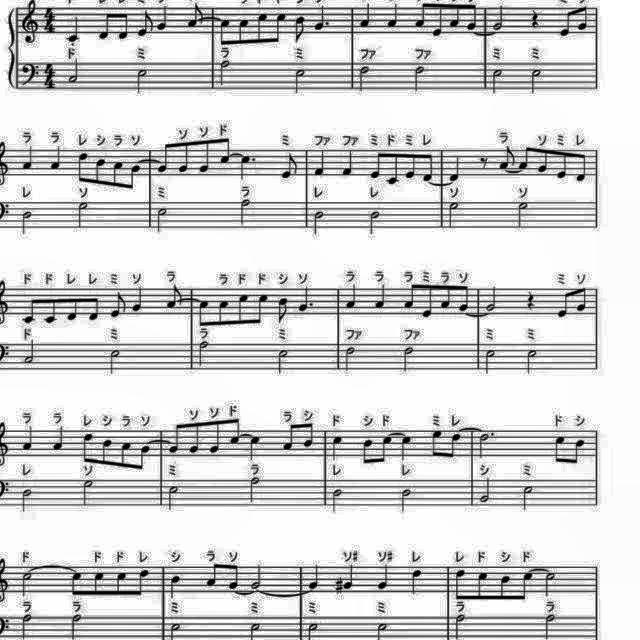Bass-clef: (20, 60, 42, 88)
Diez: (334, 576, 346, 598)
Eighth-note: (279, 152, 301, 182), (551, 432, 569, 468), (182, 0, 205, 28), (386, 148, 402, 188), (163, 282, 185, 310), (134, 568, 152, 600), (254, 10, 270, 46), (236, 292, 252, 328), (420, 282, 436, 318), (379, 430, 395, 466), (426, 428, 444, 460), (108, 288, 126, 320), (186, 420, 202, 456), (452, 566, 468, 602), (557, 6, 575, 38), (167, 420, 183, 456), (74, 148, 90, 184), (520, 570, 536, 604), (572, 149, 588, 183), (556, 286, 572, 320), (176, 141, 192, 175), (474, 568, 490, 602), (154, 141, 170, 175), (198, 140, 214, 174), (136, 8, 154, 38), (21, 296, 39, 326), (430, 2, 444, 40), (97, 11, 113, 44), (496, 145, 516, 171), (208, 419, 222, 456), (236, 16, 252, 48), (420, 152, 436, 184), (216, 134, 232, 166), (68, 566, 84, 598), (554, 148, 570, 180), (570, 435, 586, 467), (404, 148, 420, 180), (496, 574, 512, 606), (280, 422, 296, 454), (366, 148, 382, 180), (44, 292, 60, 324), (402, 282, 418, 314), (291, 14, 307, 46), (255, 292, 269, 328), (274, 10, 288, 46), (464, 1, 480, 32), (112, 569, 128, 599), (302, 422, 318, 452), (110, 160, 126, 190), (534, 147, 550, 177), (448, 432, 464, 462), (358, 438, 374, 468), (456, 284, 472, 314), (92, 570, 108, 600), (128, 163, 144, 193), (228, 416, 244, 446), (216, 16, 232, 46), (196, 299, 212, 329), (574, 4, 590, 34), (413, 0, 430, 28), (203, 560, 220, 588), (82, 432, 96, 466), (136, 443, 152, 472), (116, 9, 130, 41), (94, 157, 108, 189), (517, 144, 533, 172), (277, 292, 291, 324), (217, 298, 231, 329), (118, 440, 132, 470), (574, 285, 588, 315), (100, 437, 114, 467), (89, 295, 103, 325), (66, 294, 80, 324), (448, 0, 462, 28), (440, 282, 454, 310), (228, 562, 242, 590)
Eighth-rest: (476, 151, 492, 173)
Half-dot: (476, 428, 496, 459)
Half-note: (411, 62, 429, 94), (355, 62, 373, 94), (519, 482, 537, 512), (540, 569, 558, 599), (248, 562, 264, 594), (528, 66, 544, 98), (291, 66, 307, 98), (245, 475, 262, 505), (68, 612, 86, 640), (80, 477, 96, 508), (444, 200, 460, 230), (238, 197, 254, 227), (108, 347, 124, 377), (276, 347, 292, 377), (166, 482, 182, 512), (74, 199, 90, 229), (484, 284, 500, 314), (526, 346, 542, 376), (402, 344, 418, 374), (514, 200, 530, 230), (489, 65, 505, 95), (134, 67, 150, 97), (196, 339, 212, 368), (156, 204, 172, 233), (478, 476, 494, 504), (23, 338, 39, 366), (400, 486, 416, 514), (490, 4, 506, 32), (366, 210, 382, 238), (66, 58, 82, 86), (20, 209, 36, 237), (216, 60, 232, 88), (343, 344, 359, 372), (330, 486, 346, 514), (312, 208, 328, 236), (20, 486, 36, 514), (20, 569, 36, 597), (18, 614, 34, 640), (484, 348, 498, 376)
Quarter-dot: (313, 1, 333, 32), (237, 154, 259, 182), (295, 284, 315, 314)
Quarter-note: (64, 13, 84, 43), (447, 153, 465, 183), (245, 433, 263, 463), (130, 282, 146, 314), (340, 146, 356, 178), (398, 432, 414, 463), (306, 561, 322, 591), (328, 433, 344, 463), (410, 567, 426, 597), (376, 563, 392, 593), (156, 2, 172, 32), (312, 149, 328, 179), (52, 423, 68, 452), (344, 284, 360, 312), (168, 573, 184, 601), (21, 424, 37, 452), (21, 144, 37, 172), (47, 144, 63, 172), (374, 282, 390, 310), (386, 0, 402, 28), (357, 0, 373, 28), (343, 563, 357, 593)
Quarter-rest: (522, 288, 538, 312), (528, 6, 542, 30)
Treble-clef: (19, 0, 41, 44)
